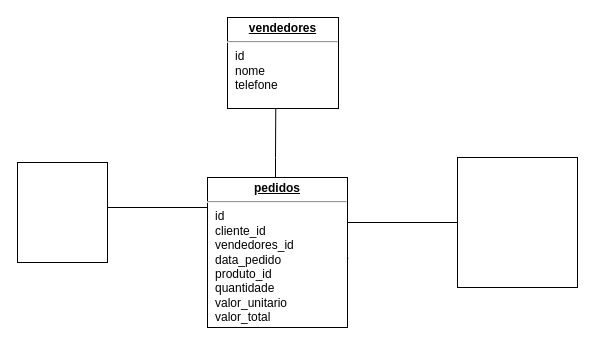
The diagram is 595 pixels wide and 345 high, and some of its shapes have lost their labels. The shapes that lost their labels are listed below. From the top down, each one's box as (x1, y1, x2, y2) in pixels, then its label:
(16, 162, 108, 262): clientes id nome cpf telefone
(456, 156, 578, 288): produtos id nome_produto valor_unitario qtd_estoque
